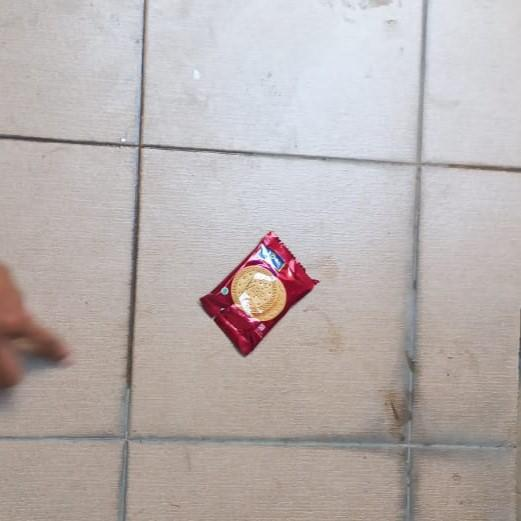Plastik: (199, 231, 320, 356)
